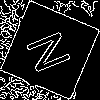N: (25, 25, 81, 76)
